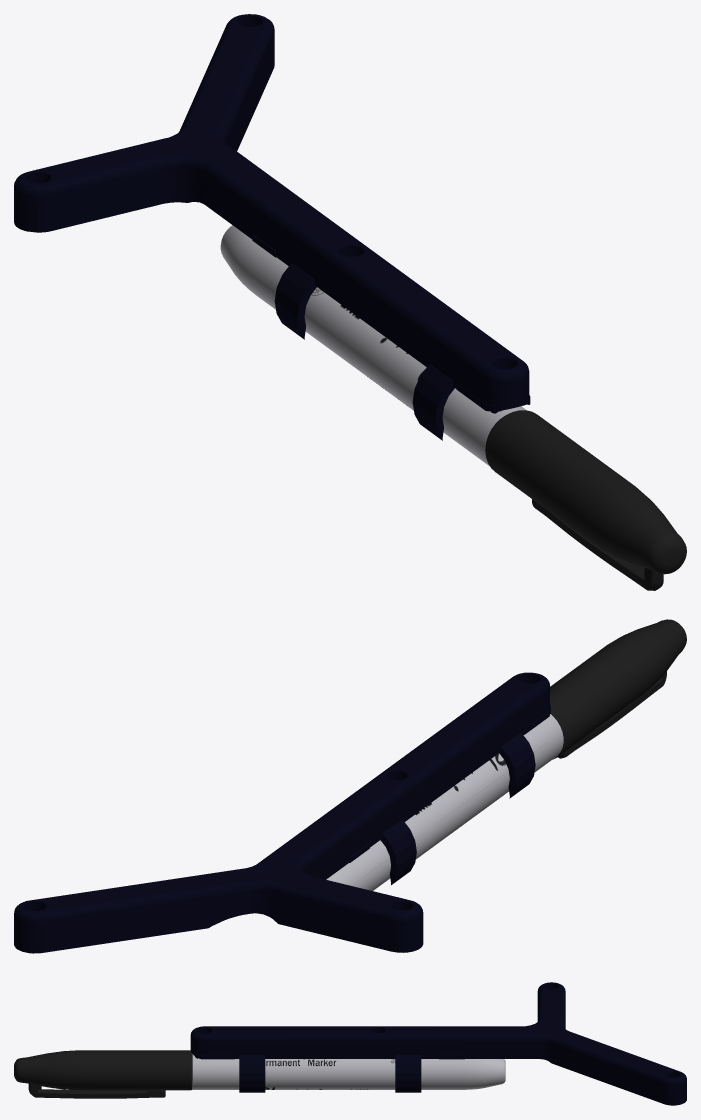
The model's file is SharpieIRTool.fbx.
The picture shows the model from 3 angles, top to bottom: view 1: azimuth 30°, elevation 25°; view 2: azimuth 150°, elevation 25°; view 3: azimuth 270°, elevation 25°; orthographic projection. The views are drawn at different scales.
Visible parts, largest first — view 1: IRToolNew, sharpieCap, sharpiePen; view 2: IRToolNew, sharpieCap, sharpiePen; view 3: IRToolNew, sharpiePen, sharpieCap.
Part boxes in pixels (box(x1,y1,x2,y2)): IRToolNew: box(14, 14, 530, 440); sharpieCap: box(485, 410, 686, 590); sharpiePen: box(220, 225, 526, 466); IRToolNew: box(14, 672, 550, 953); sharpieCap: box(550, 619, 686, 759); sharpiePen: box(326, 714, 563, 890); IRToolNew: box(190, 982, 686, 1105); sharpiePen: box(192, 1054, 505, 1089); sharpieCap: box(14, 1050, 192, 1098).
Size of the model in its own units: 6799 by 2169 by 19386.
Materials: 3 (1 with a texture image).
